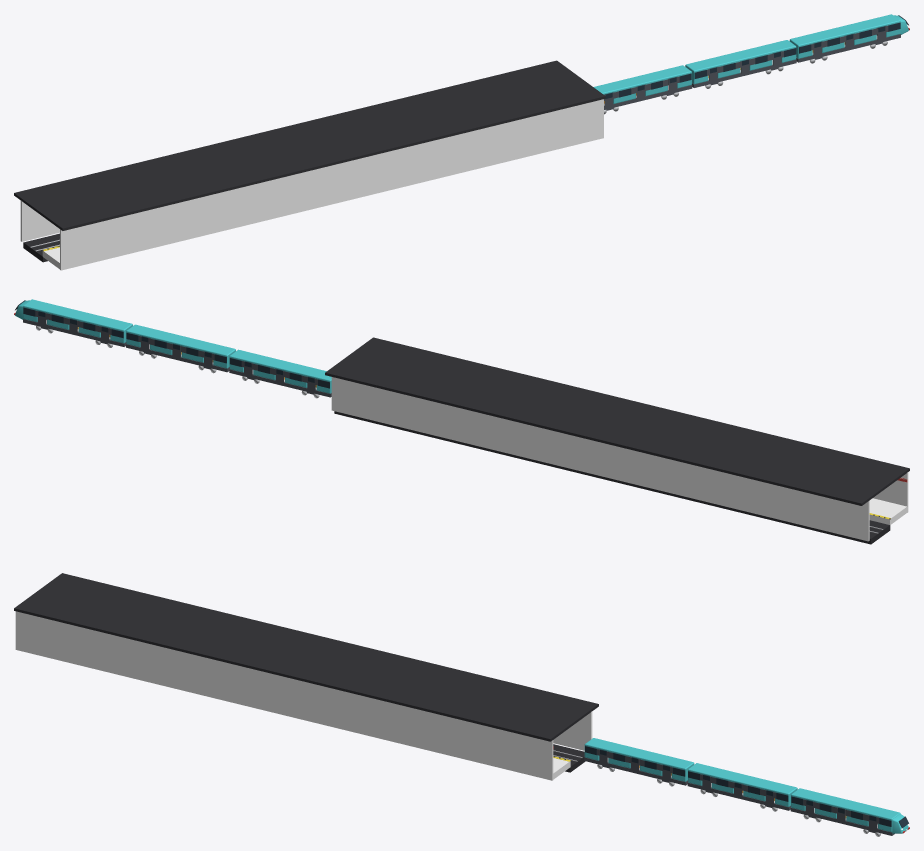
File: metro.glb
3 views of the same model, one above another, from view 1: azimuth 30°, elevation 25°; view 2: azimuth 150°, elevation 25°; view 3: azimuth 330°, elevation 25° (orthographic).
Parts seen in each view (by area): view 1: Techo, MuroAnden, Cuerpo.001, Cuerpo, Cuerpo.002, Muro; view 2: Techo, Muro, Via, Cuerpo, Cuerpo.001, Cuerpo.002, Anden, MuroAnden; view 3: Techo, MuroAnden, Cuerpo.002, Cuerpo.001, Cuerpo, Muro.
Part boxes in pixels (bbox=[...]): Techo: bbox=[14, 60, 605, 230]; MuroAnden: bbox=[60, 99, 603, 270]; Cuerpo.001: bbox=[685, 40, 796, 84]; Cuerpo: bbox=[789, 14, 900, 58]; Cuerpo.002: bbox=[593, 65, 691, 103]; Muro: bbox=[20, 200, 59, 241]; Techo: bbox=[325, 337, 909, 505]; Muro: bbox=[331, 377, 869, 541]; Via: bbox=[334, 411, 890, 544]; Cuerpo: bbox=[23, 299, 132, 343]; Cuerpo.001: bbox=[126, 324, 235, 368]; Cuerpo.002: bbox=[229, 349, 331, 393]; Anden: bbox=[869, 498, 907, 524]; MuroAnden: bbox=[873, 472, 908, 512]; Techo: bbox=[14, 573, 598, 741]; MuroAnden: bbox=[15, 611, 553, 780]; Cuerpo.002: bbox=[584, 738, 694, 781]; Cuerpo.001: bbox=[688, 763, 797, 806]; Cuerpo: bbox=[791, 788, 900, 832]; Muro: bbox=[553, 711, 592, 750].
Bounding box in the file's own units: 145 × 7.65 × 14.
